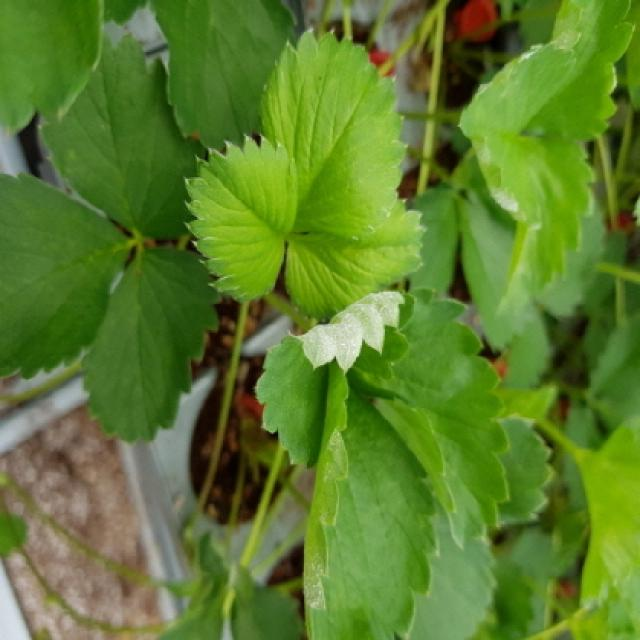Powdery Mildew Leaf: (302, 358, 440, 638), (254, 289, 417, 471), (459, 29, 583, 233)
